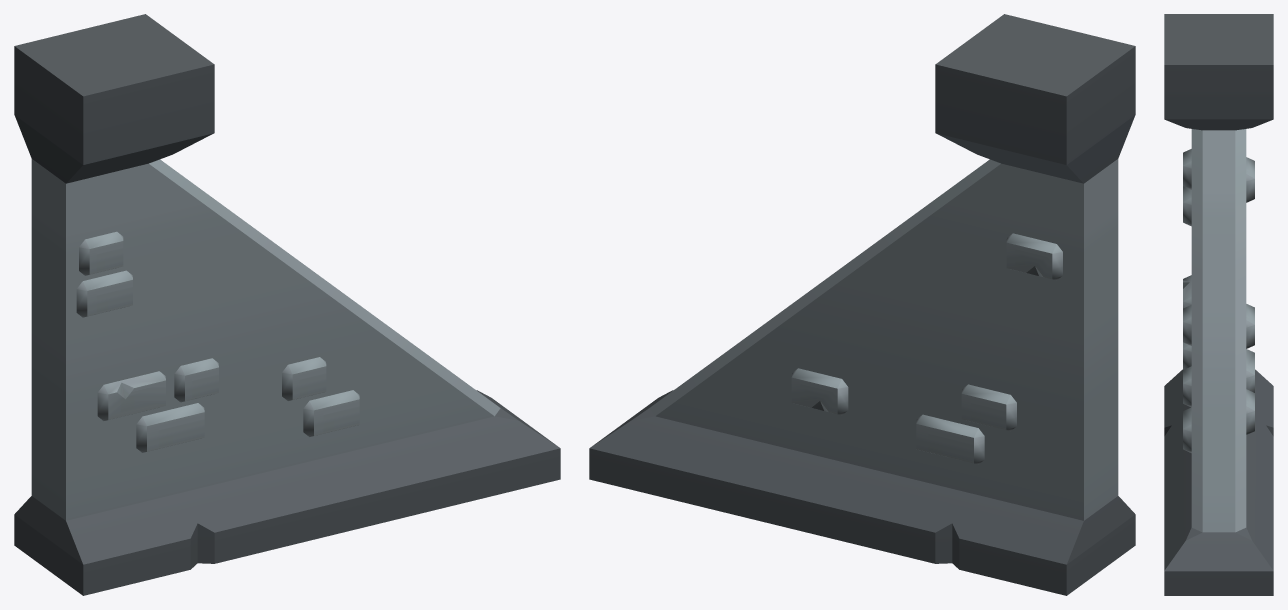
The model's file is gable.glb.
3 views of the same model, side by side, from view 1: azimuth 30°, elevation 25°; view 2: azimuth 150°, elevation 25°; view 3: azimuth 270°, elevation 25° (orthographic). The views are drawn at different scales.
Visible parts, largest first — view 1: wall_sloped; view 2: wall_sloped; view 3: wall_sloped.
Part boxes in pixels (x1,y1,x2,y2): wall_sloped: (14,14,560,595); wall_sloped: (589,14,1135,595); wall_sloped: (1164,14,1273,595).
Bounding box in the file's own units: 4 × 4 × 1.
1 material, 1 textured.
